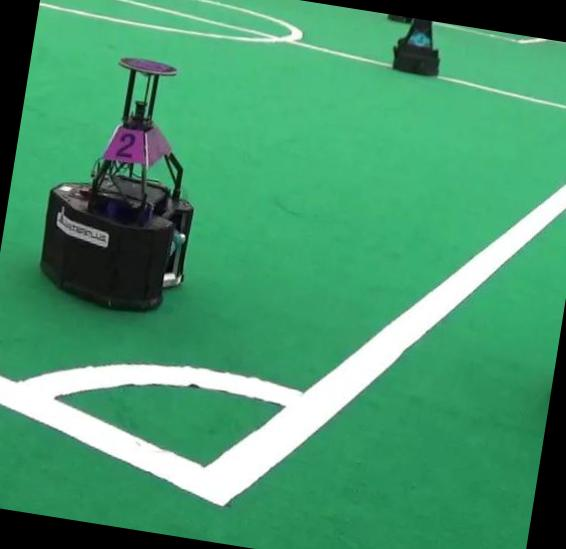robot: (40, 56, 194, 309), (393, 17, 439, 74)
